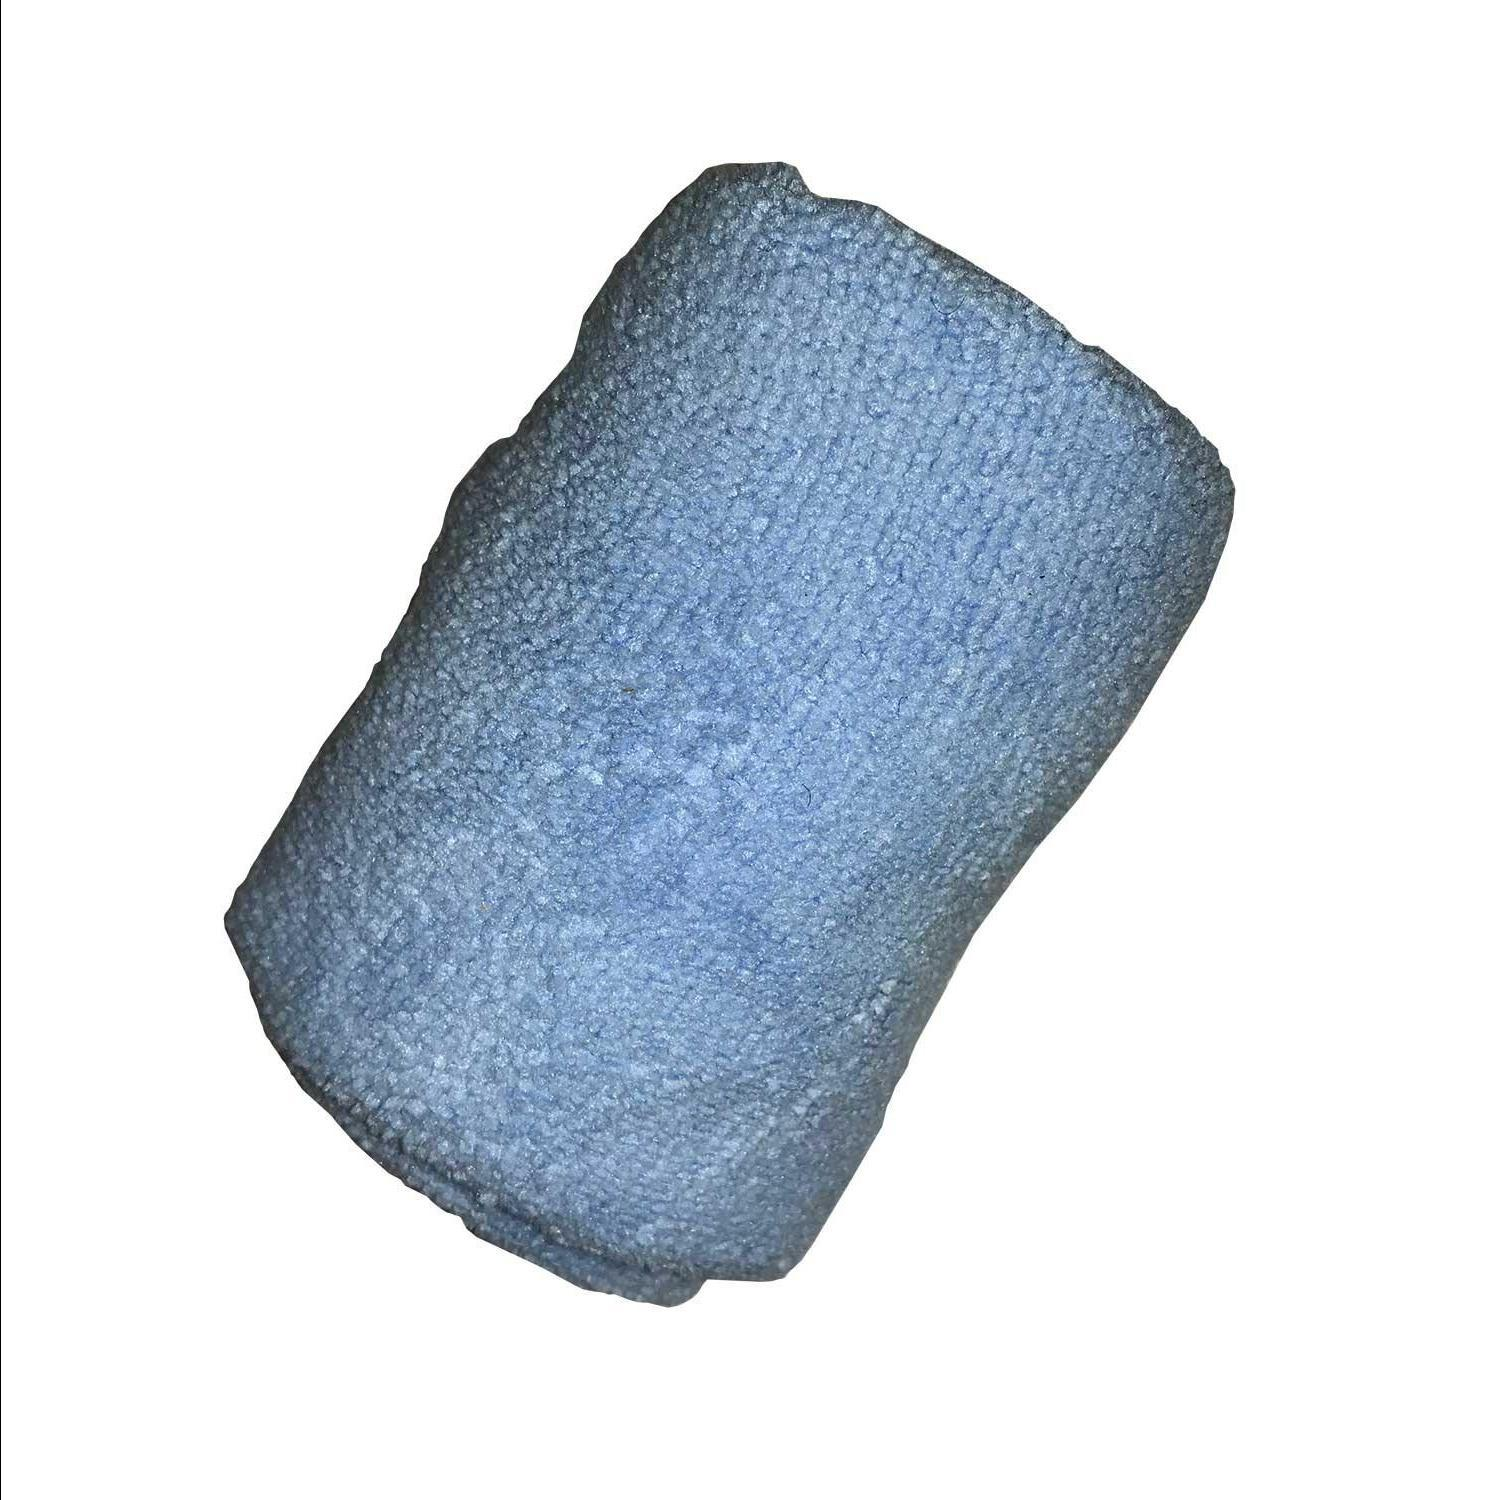towel: (80, 70, 1330, 1383)
